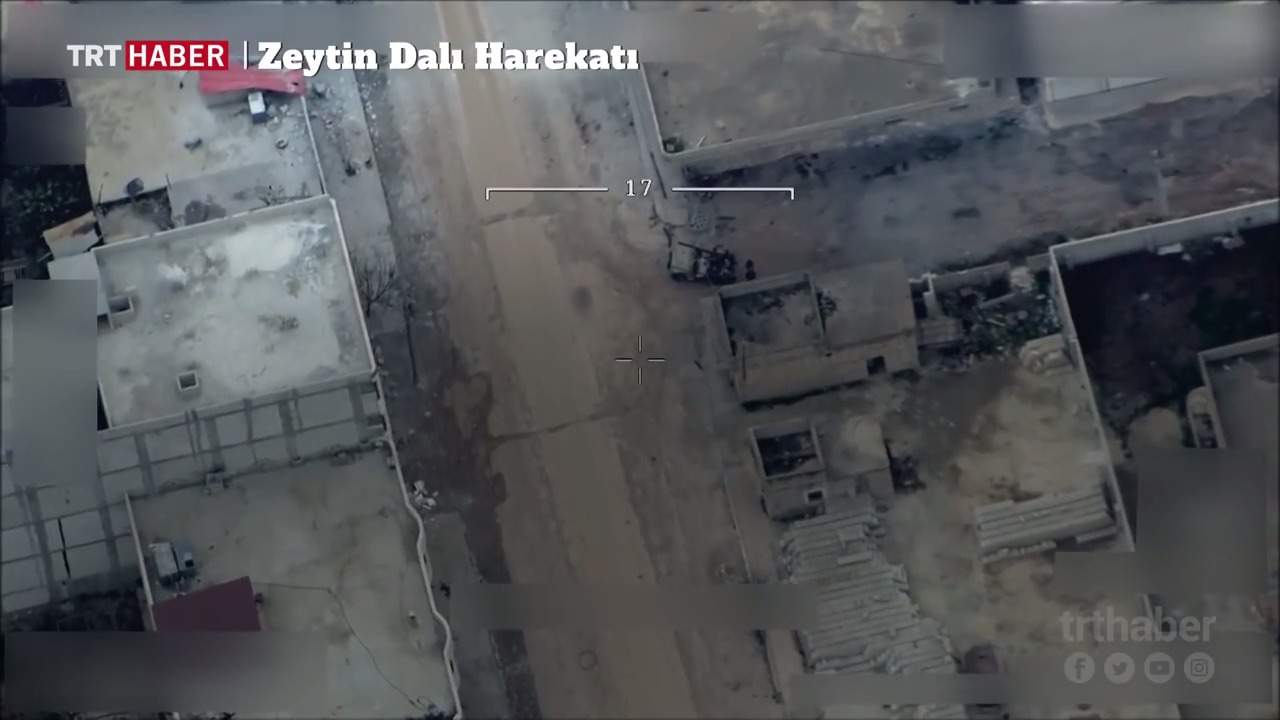arac: (666, 244, 735, 282)
bina: (732, 410, 895, 531)
insan: (744, 253, 759, 281)
